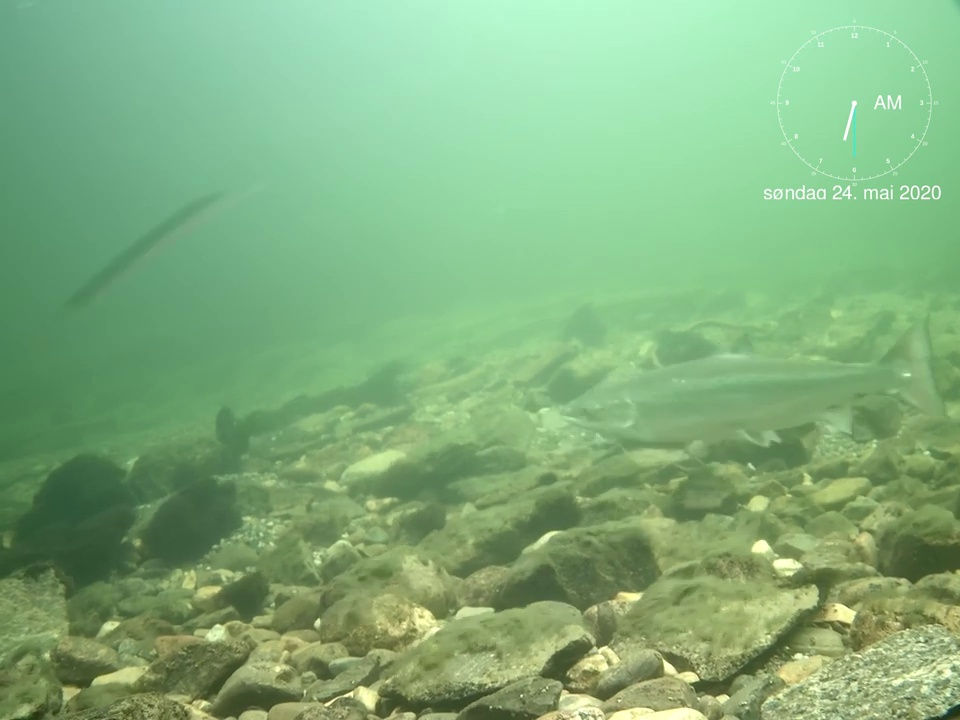salmon: (557, 312, 949, 450)
